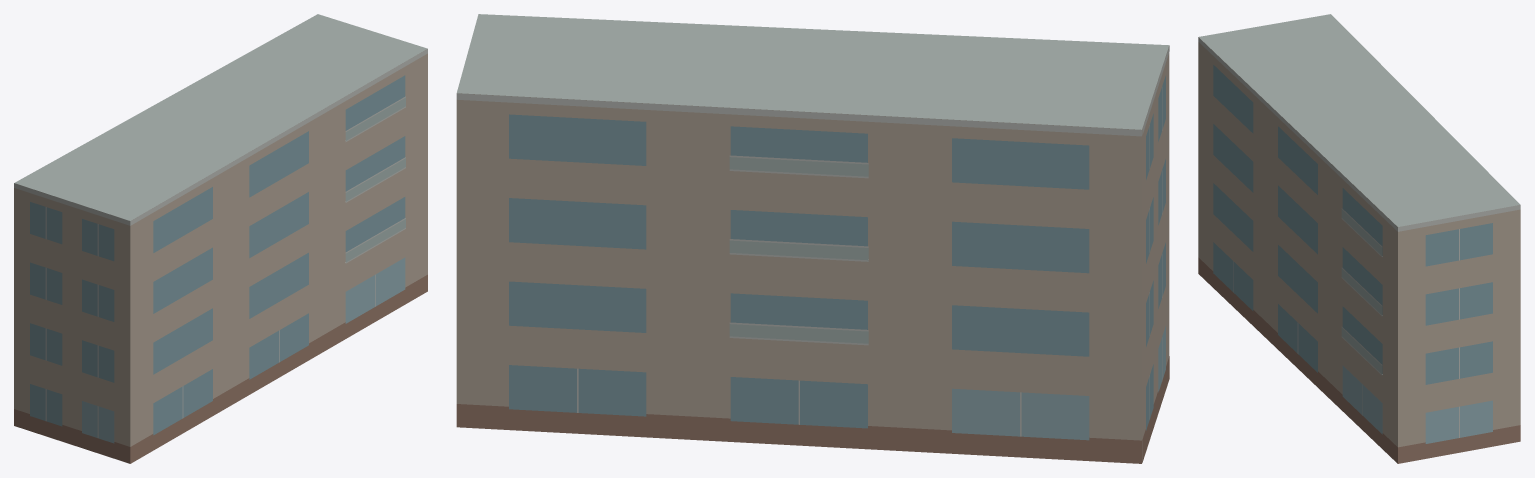
Rendered from survey-upis-33035215.glb.
3 renders of one model, left to right at view 1: azimuth 30°, elevation 25°; view 2: azimuth 150°, elevation 25°; view 3: azimuth 270°, elevation 25°, orthographic. The views are drawn at different scales.
Visible parts, largest first — view 1: survey-upis-33035215.tmp; view 2: survey-upis-33035215.tmp; view 3: survey-upis-33035215.tmp.
Boxes of the visible parts, box(x1,y1,x2,y2) form: survey-upis-33035215.tmp: box(14, 14, 427, 463); survey-upis-33035215.tmp: box(456, 14, 1169, 463); survey-upis-33035215.tmp: box(1198, 14, 1520, 463).
Bounding box in the file's own units: 23.76 × 12.3 × 15.18.
